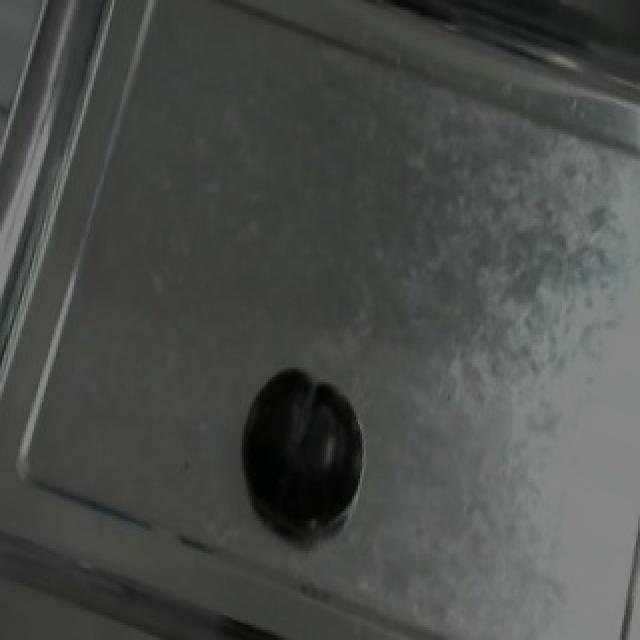Fruit: (226, 355, 366, 538)
